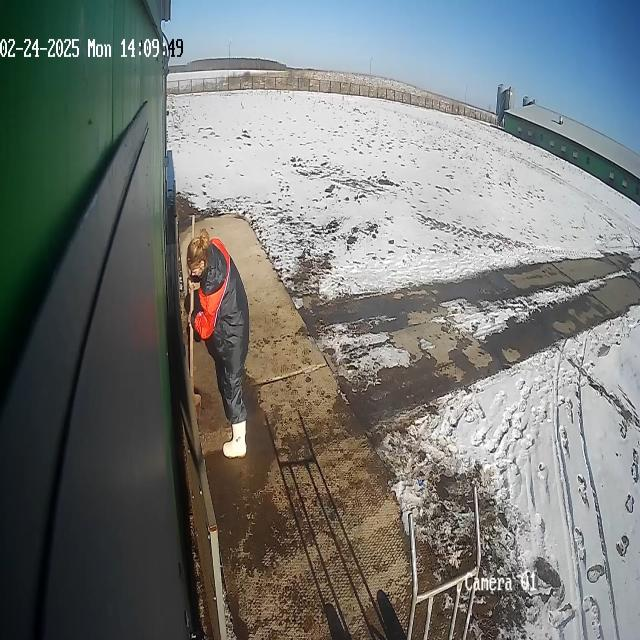Red uniform: (185, 228, 251, 462)
